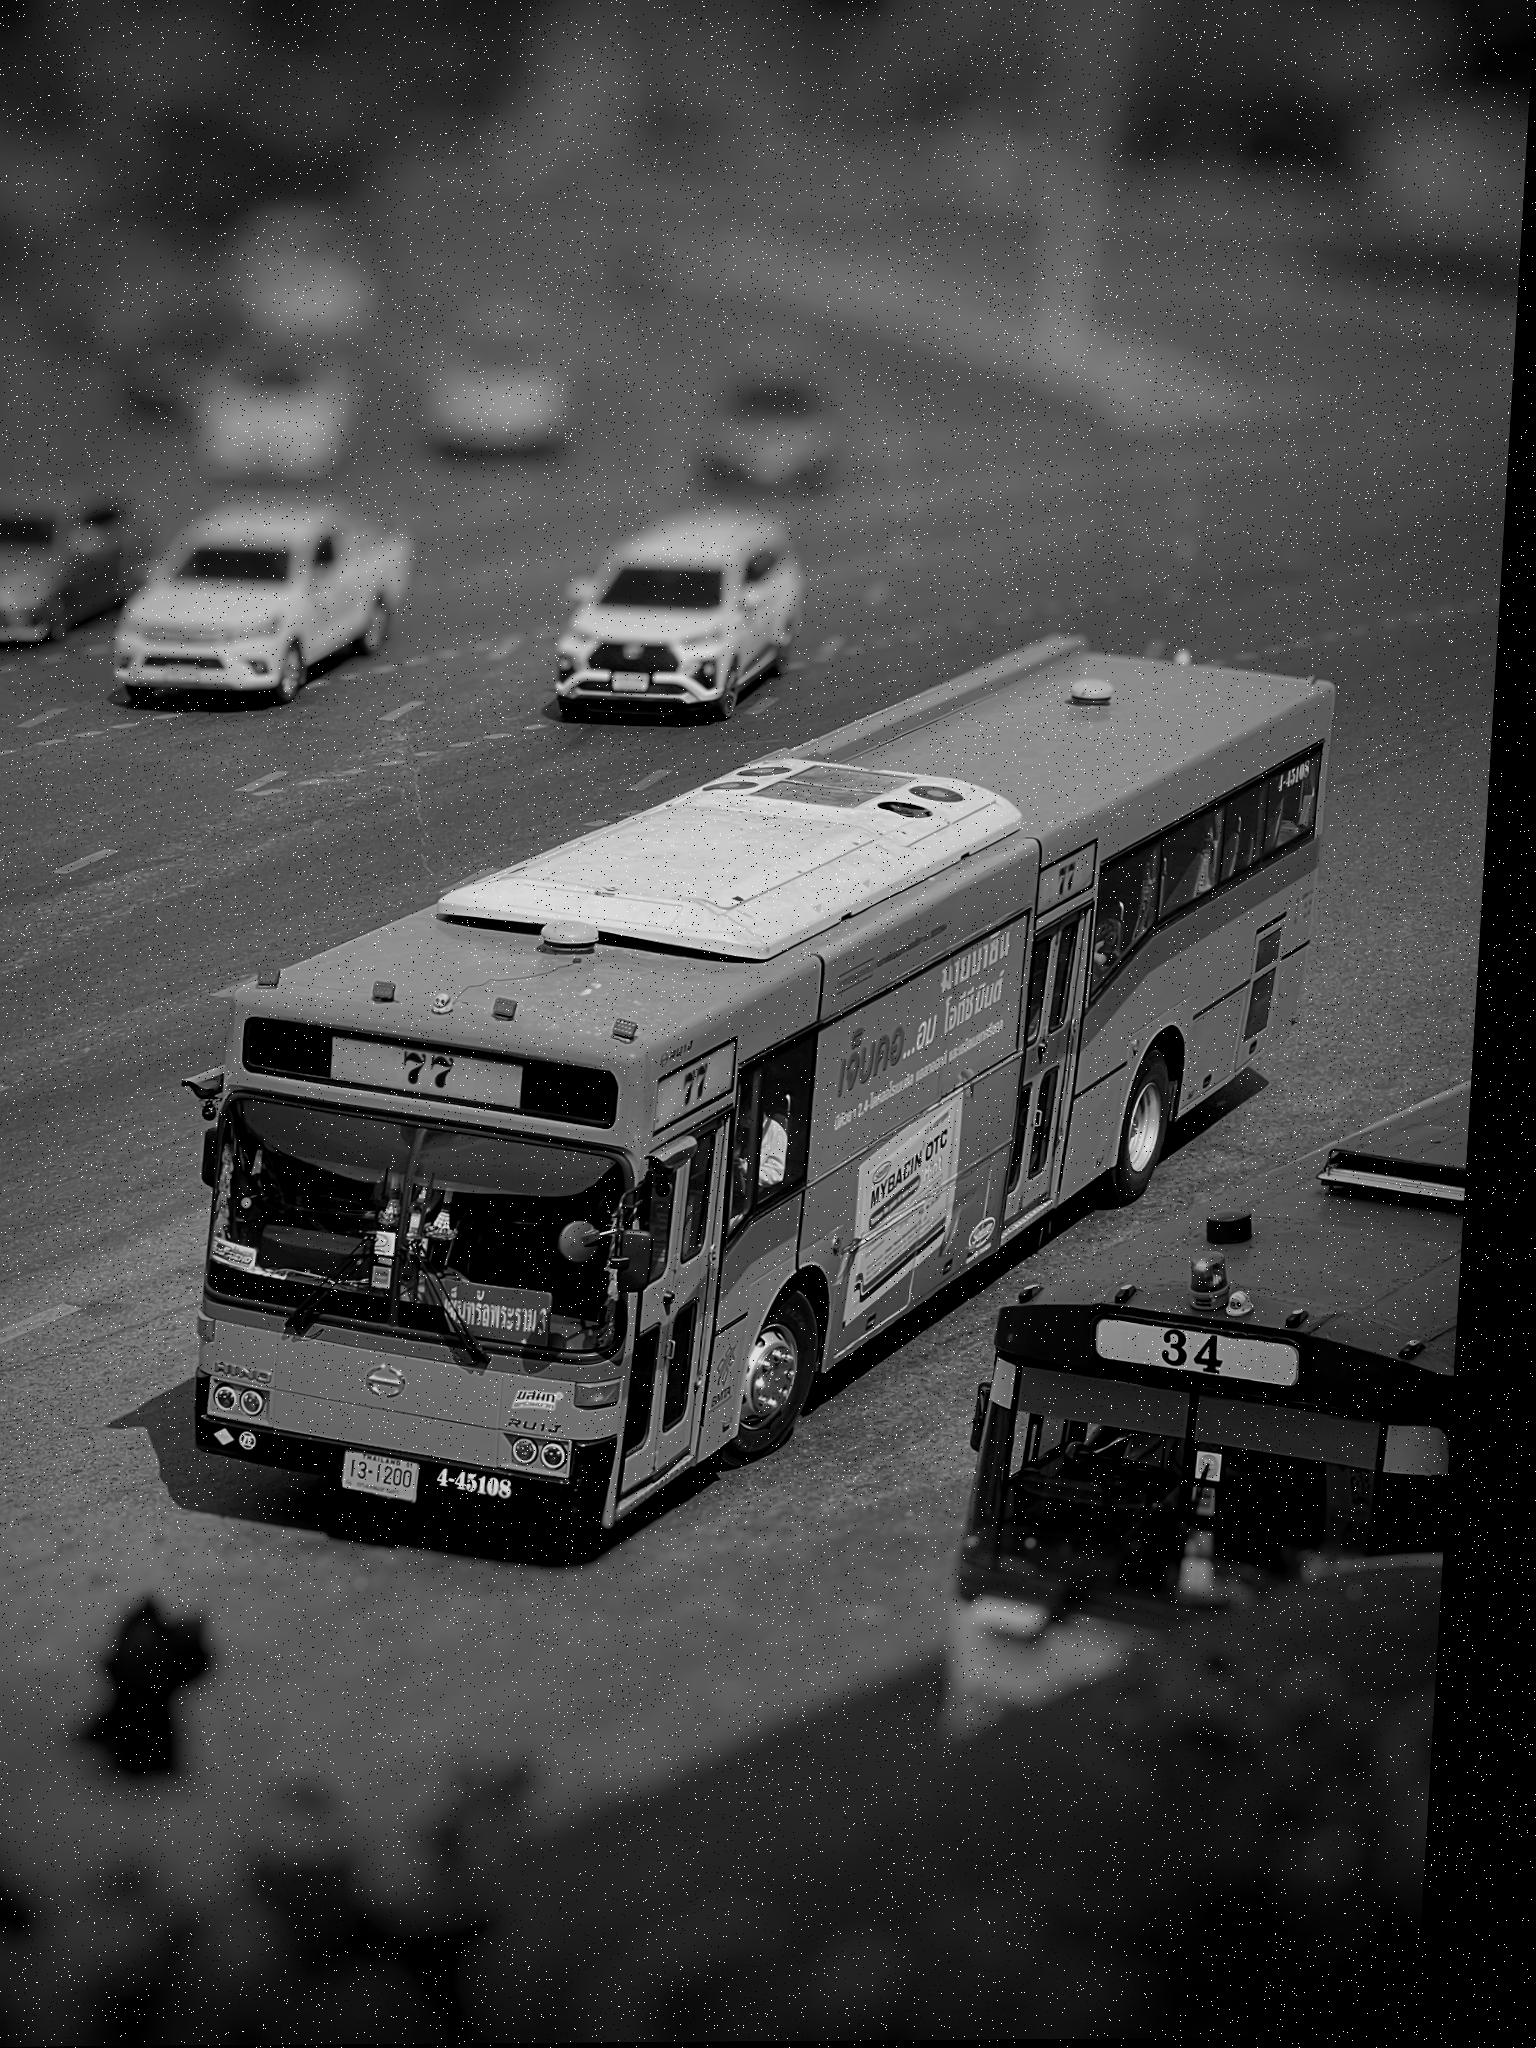BMTA-bus: (210, 639, 1350, 1540)
Bus Line Number: (392, 1039, 479, 1100), (676, 1051, 744, 1124)
Bus Side Number: (450, 1456, 539, 1509)
Destination Sign: (444, 1274, 574, 1353)
